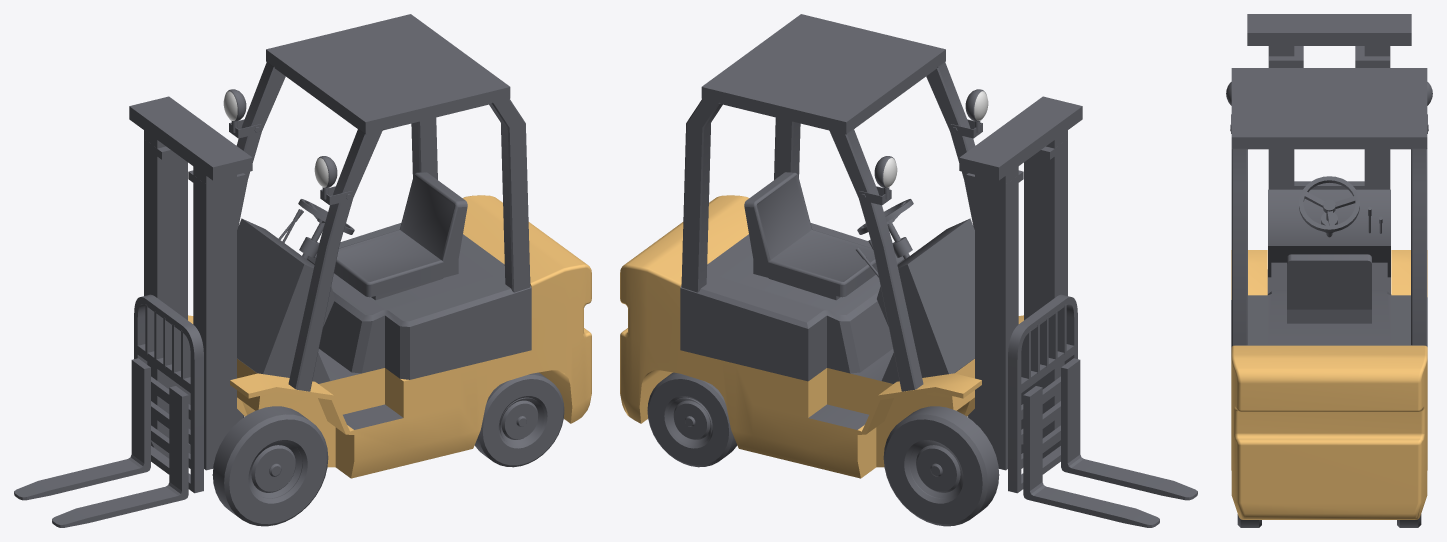
Rendered from forklift.glb.
The picture shows the model from 3 angles, left to right: view 1: azimuth 30°, elevation 25°; view 2: azimuth 150°, elevation 25°; view 3: azimuth 270°, elevation 25°; orthographic projection.
Visible parts, largest first — view 1: Roof, Cube_3_2, Cube_3, Cube_12_2_2, Panel, Tube, Cube_13_2, Cube_4, Cube_12, Tube_2, Cube_6, Sweep (+3 smaller); view 2: Roof, Cube_3_2, Cube_3, Cube_12_2_2, Panel, Tube, Cube_13_2, Cube_4, Cube_12, Tube_2, Cube_6, Sweep (+3 smaller); view 3: Cube_3_2, Roof, Panel, Cube_3, Cube_12, Cube_6, Cube_12_2_2, Tube_3, Cube_4, Cube_13_3, Sweep, Tube_2.
Part boxes in pixels (left/top/right/bottom): Roof: left=236, top=14, right=530, bottom=391; Cube_3_2: left=188, top=195, right=591, bottom=478; Cube_3: left=307, top=223, right=531, bottom=379; Cube_12_2_2: left=144, top=130, right=236, bottom=470; Panel: left=237, top=218, right=334, bottom=383; Tube: left=151, top=406, right=328, bottom=526; Cube_13_2: left=14, top=358, right=188, bottom=527; Cube_4: left=334, top=229, right=458, bottom=297; Cube_12: left=129, top=96, right=252, bottom=180; Tube_2: left=474, top=372, right=564, bottom=467; Cube_6: left=399, top=172, right=467, bottom=269; Sweep: left=134, top=294, right=203, bottom=493; Roof: left=681, top=14, right=975, bottom=391; Cube_3_2: left=620, top=195, right=1023, bottom=478; Cube_3: left=680, top=223, right=904, bottom=381; Cube_12_2_2: left=975, top=130, right=1067, bottom=470; Panel: left=877, top=218, right=974, bottom=383; Tube: left=883, top=406, right=1060, bottom=526; Cube_13_2: left=1023, top=358, right=1197, bottom=527; Cube_4: left=753, top=229, right=877, bottom=297; Cube_12: left=959, top=96, right=1082, bottom=180; Tube_2: left=647, top=372, right=737, bottom=467; Cube_6: left=744, top=172, right=812, bottom=269; Sweep: left=1008, top=294, right=1077, bottom=493; Cube_3_2: left=1231, top=250, right=1427, bottom=519; Roof: left=1231, top=68, right=1427, bottom=346; Panel: left=1268, top=189, right=1390, bottom=293; Cube_3: left=1231, top=290, right=1427, bottom=346; Cube_12: left=1247, top=14, right=1411, bottom=45; Cube_6: left=1287, top=254, right=1371, bottom=309; Cube_12_2_2: left=1268, top=46, right=1390, bottom=189; Tube_3: left=1299, top=176, right=1359, bottom=231; Cube_4: left=1287, top=309, right=1371, bottom=323; Cube_13_3: left=1269, top=46, right=1389, bottom=67; Sweep: left=1294, top=181, right=1364, bottom=189; Tube_2: left=1237, top=514, right=1421, bottom=527.
Size of the model in its own units: 3.04 by 2.2 by 1.09.
